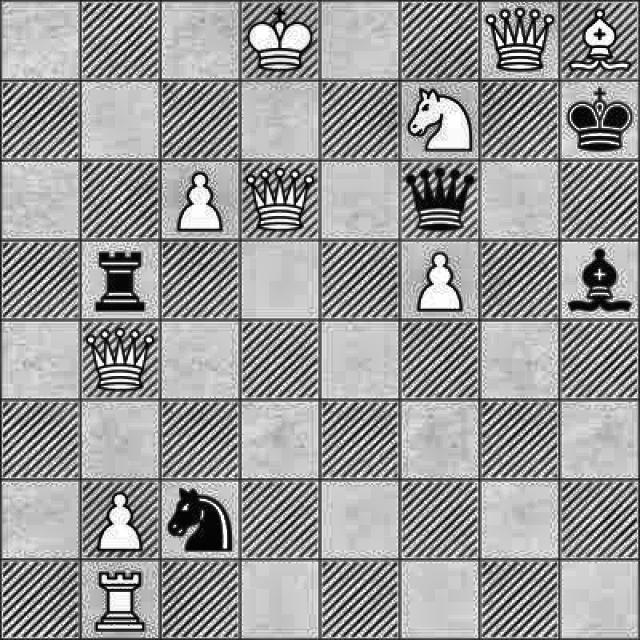Black Knight: (173, 480, 232, 558)
black bishop: (560, 239, 640, 305)
black king: (563, 81, 640, 162)
black queen: (403, 157, 484, 237)
black rook: (80, 241, 158, 319)
white king: (241, 0, 315, 77)
white pawn: (82, 489, 156, 559), (166, 168, 231, 244), (408, 245, 472, 313)
white queen: (246, 160, 320, 242), (480, 0, 557, 78), (81, 320, 154, 397)
white rook: (89, 566, 157, 638)
whiteknight: (400, 83, 481, 158)
